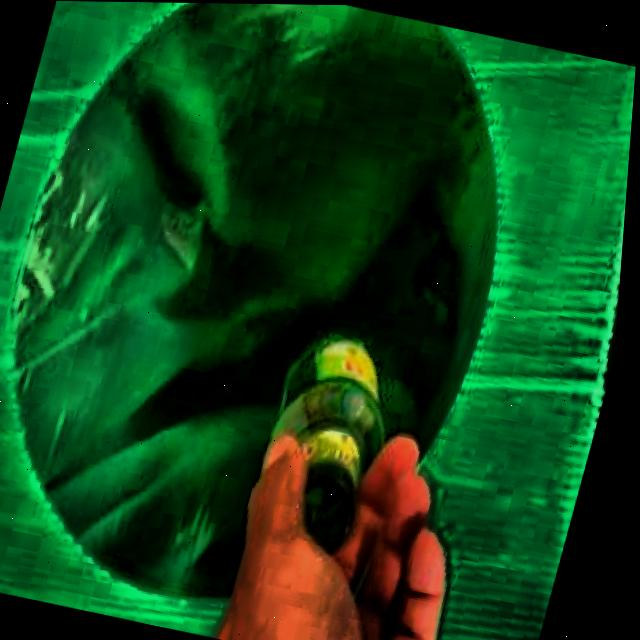glass: (281, 338, 390, 551)
